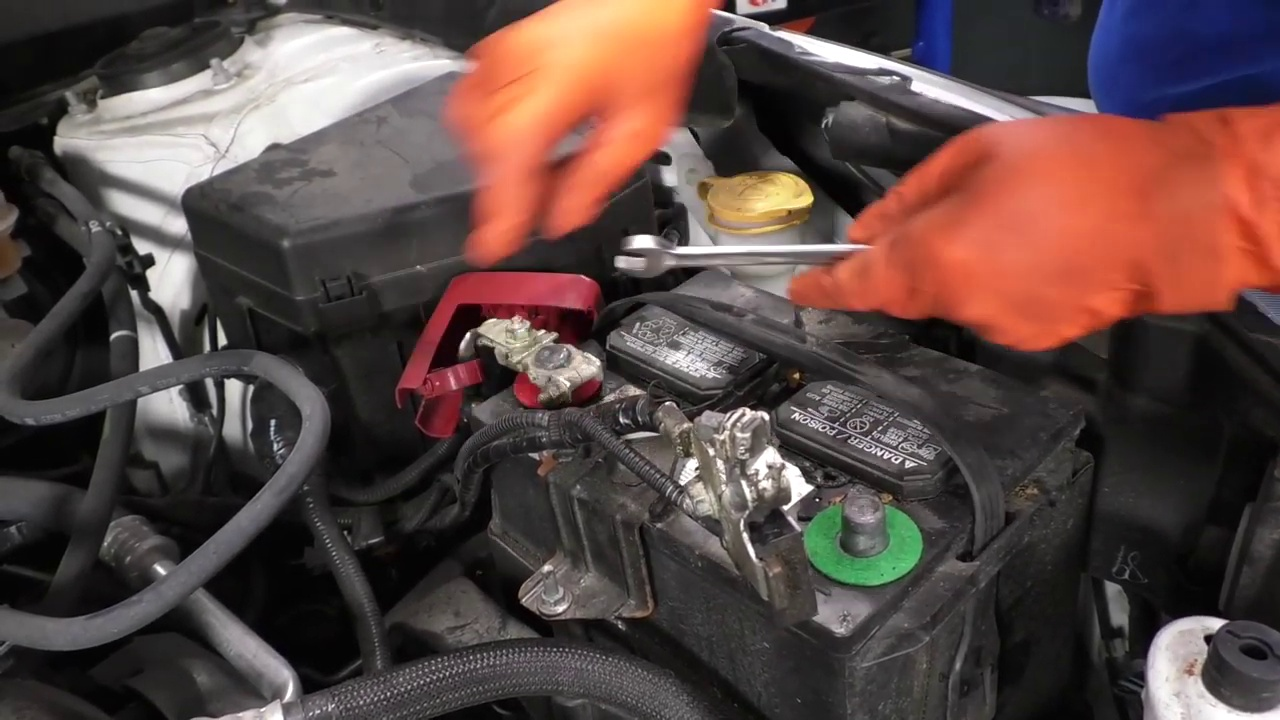battery: (456, 255, 1078, 609)
neg_disconnected: (798, 461, 933, 592)
pos_connected: (435, 272, 623, 437)
